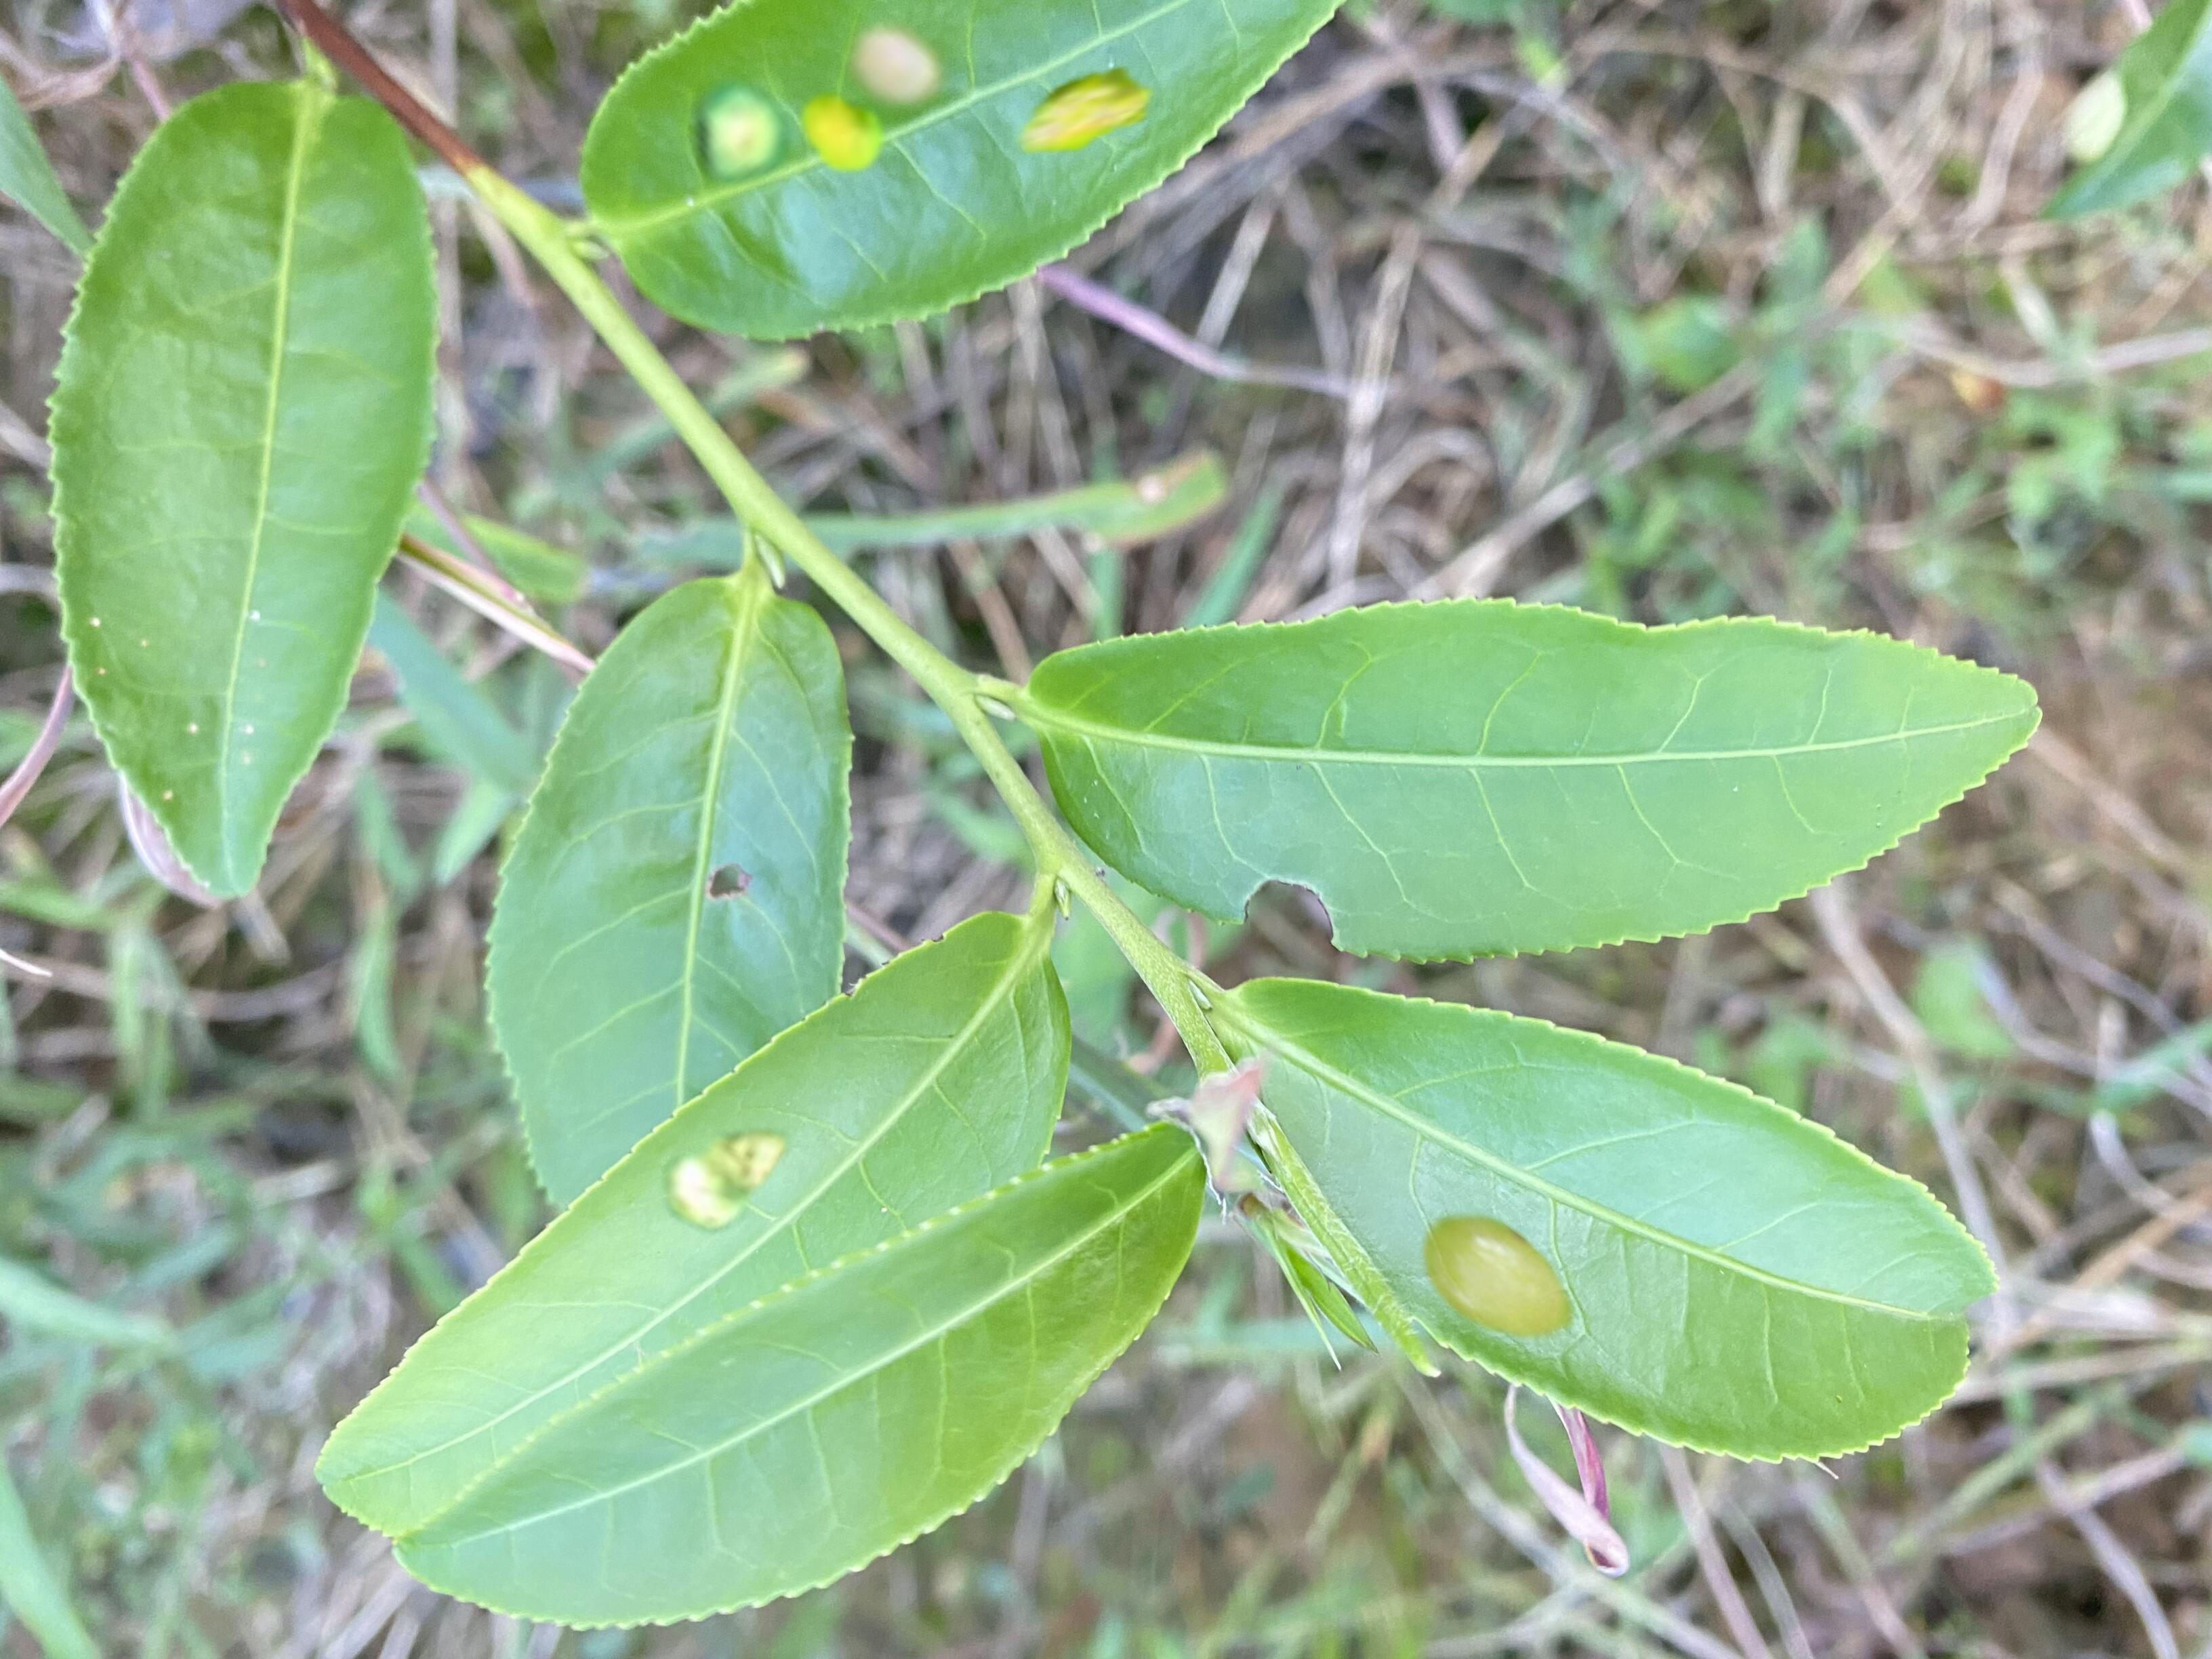chabing_high: (578, 3, 1348, 342)
chabing_low: (310, 911, 1071, 1546), (1221, 978, 1998, 1462)
chihuo_low: (1024, 594, 2045, 967), (479, 565, 853, 1213)
healthy: (394, 1122, 1209, 1631)
